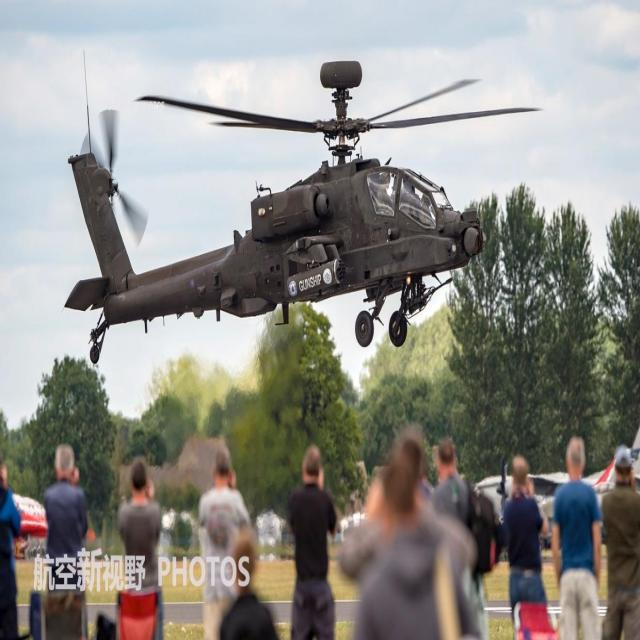MIL_HELO: (59, 52, 542, 348)
